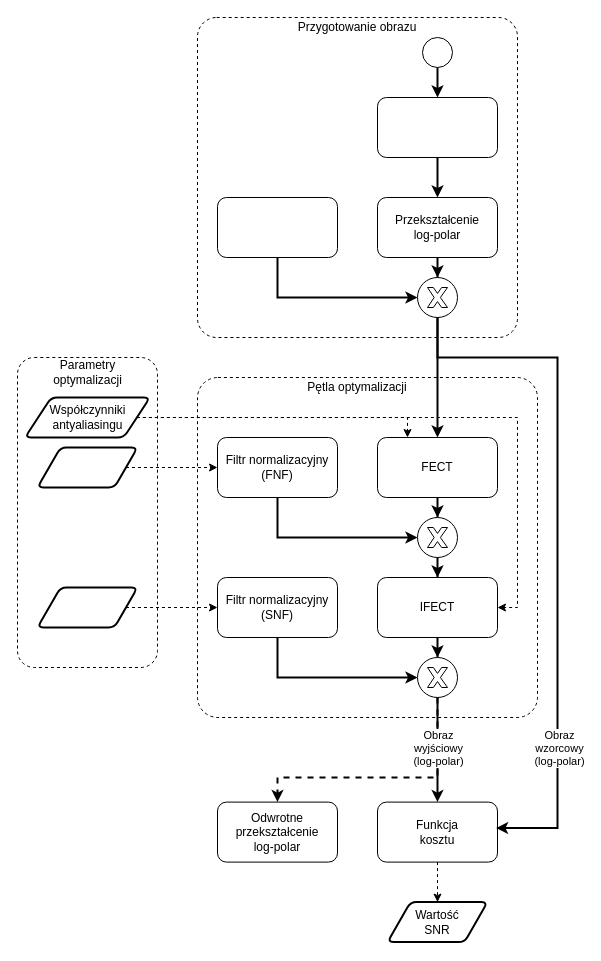
Image size: 601x961. Some labels were removed from this diagram. Each missing label, with the box of its shape:
Filtr połówkowy: (216, 196, 338, 258)
Parametry FNF( ρ k ): (36, 446, 138, 488)
Parametry SNF( ρ k ): (36, 586, 138, 628)
Wczytanie obrazu: (376, 96, 498, 158)
